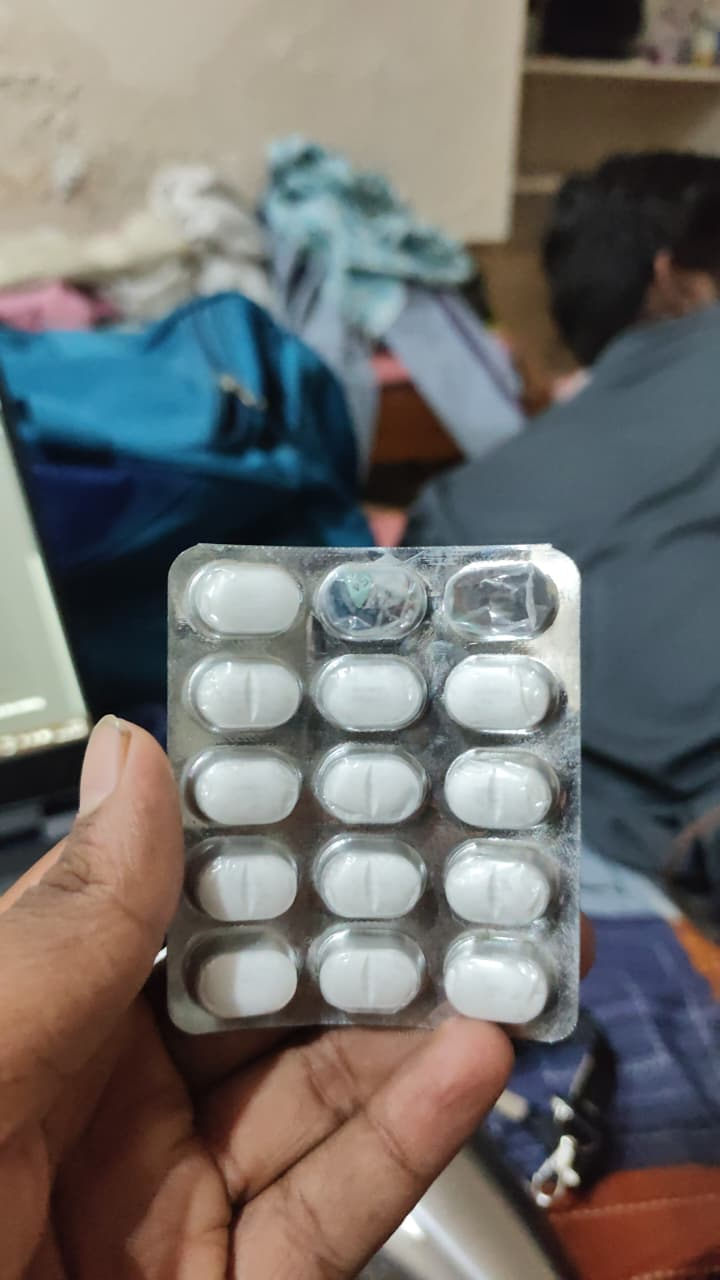MedicineStrip: (175, 534, 580, 1035)
